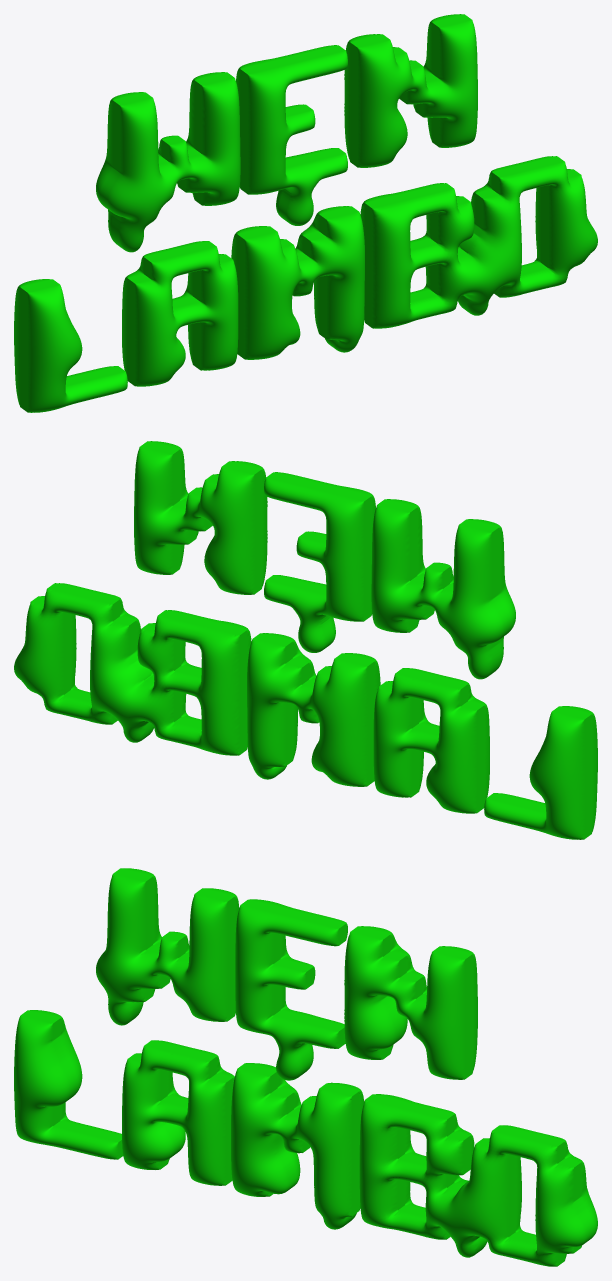
Rendered from WEN_LAMBO-SNOT.glb.
The picture shows the model from 3 angles, top to bottom: view 1: azimuth 30°, elevation 25°; view 2: azimuth 150°, elevation 25°; view 3: azimuth 330°, elevation 25°; orthographic projection.
Visible parts, largest first — view 1: Mesh_6, Mesh_3.001, Mesh_4.001, Mesh_1.006, Mesh_2.003, Mesh_5.001, Mesh_0.008; view 2: Mesh_6, Mesh_3.001, Mesh_4.001, Mesh_1.006, Mesh_2.003, Mesh_5.001, Mesh_0.008; view 3: Mesh_6, Mesh_3.001, Mesh_4.001, Mesh_1.006, Mesh_2.003, Mesh_5.001, Mesh_0.008.
Part boxes in pixels (x1,y1,x2,y2): Mesh_6: (360, 156, 597, 328); Mesh_3.001: (96, 72, 240, 252); Mesh_4.001: (231, 206, 364, 359); Mesh_1.006: (344, 14, 477, 167); Mesh_2.003: (122, 241, 238, 386); Mesh_5.001: (236, 45, 347, 225); Mesh_0.008: (14, 279, 127, 412); Mesh_6: (14, 583, 251, 755); Mesh_3.001: (371, 499, 515, 679); Mesh_4.001: (247, 633, 380, 786); Mesh_1.006: (134, 441, 267, 594); Mesh_2.003: (373, 668, 489, 813); Mesh_5.001: (264, 472, 375, 652); Mesh_0.008: (484, 706, 597, 839); Mesh_6: (359, 1094, 597, 1266); Mesh_3.001: (96, 868, 239, 1025); Mesh_4.001: (231, 1063, 364, 1229); Mesh_1.006: (344, 926, 477, 1079); Mesh_2.003: (122, 1040, 234, 1185); Mesh_5.001: (235, 899, 347, 1080); Mesh_0.008: (14, 1010, 123, 1159).
Size of the model in its own units: 0.0606 by 0.0306 by 0.00784.
